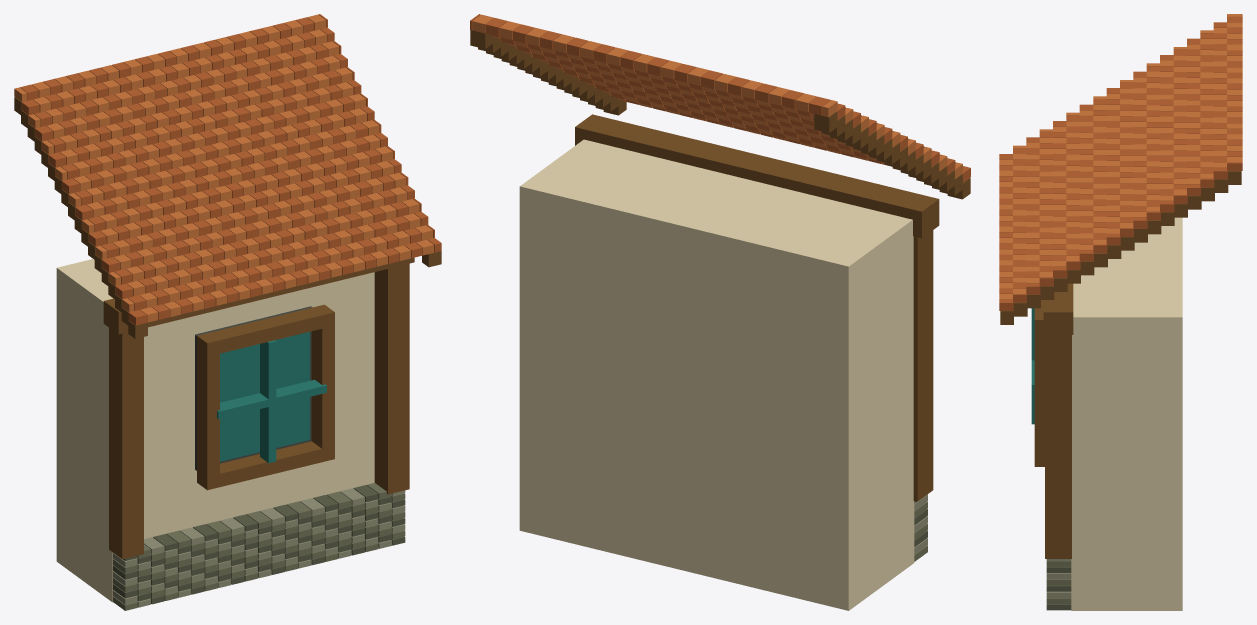
The model's file is SM_DC_Cottage_Third.fbx.
The picture shows the model from 3 angles, left to right: view 1: azimuth 30°, elevation 25°; view 2: azimuth 150°, elevation 25°; view 3: azimuth 270°, elevation 25°; orthographic projection. The views are drawn at different scales.
Parts seen in each view (by area): view 1: SM_DC_Cottage_Third; view 2: SM_DC_Cottage_Third; view 3: SM_DC_Cottage_Third.
Boxes of the visible parts, bbox=[...] form: SM_DC_Cottage_Third: bbox=[14, 14, 441, 610]; SM_DC_Cottage_Third: bbox=[470, 14, 970, 610]; SM_DC_Cottage_Third: bbox=[999, 14, 1242, 610].
Bounding box in the file's own units: 2.4 × 1.65 × 3.4.
